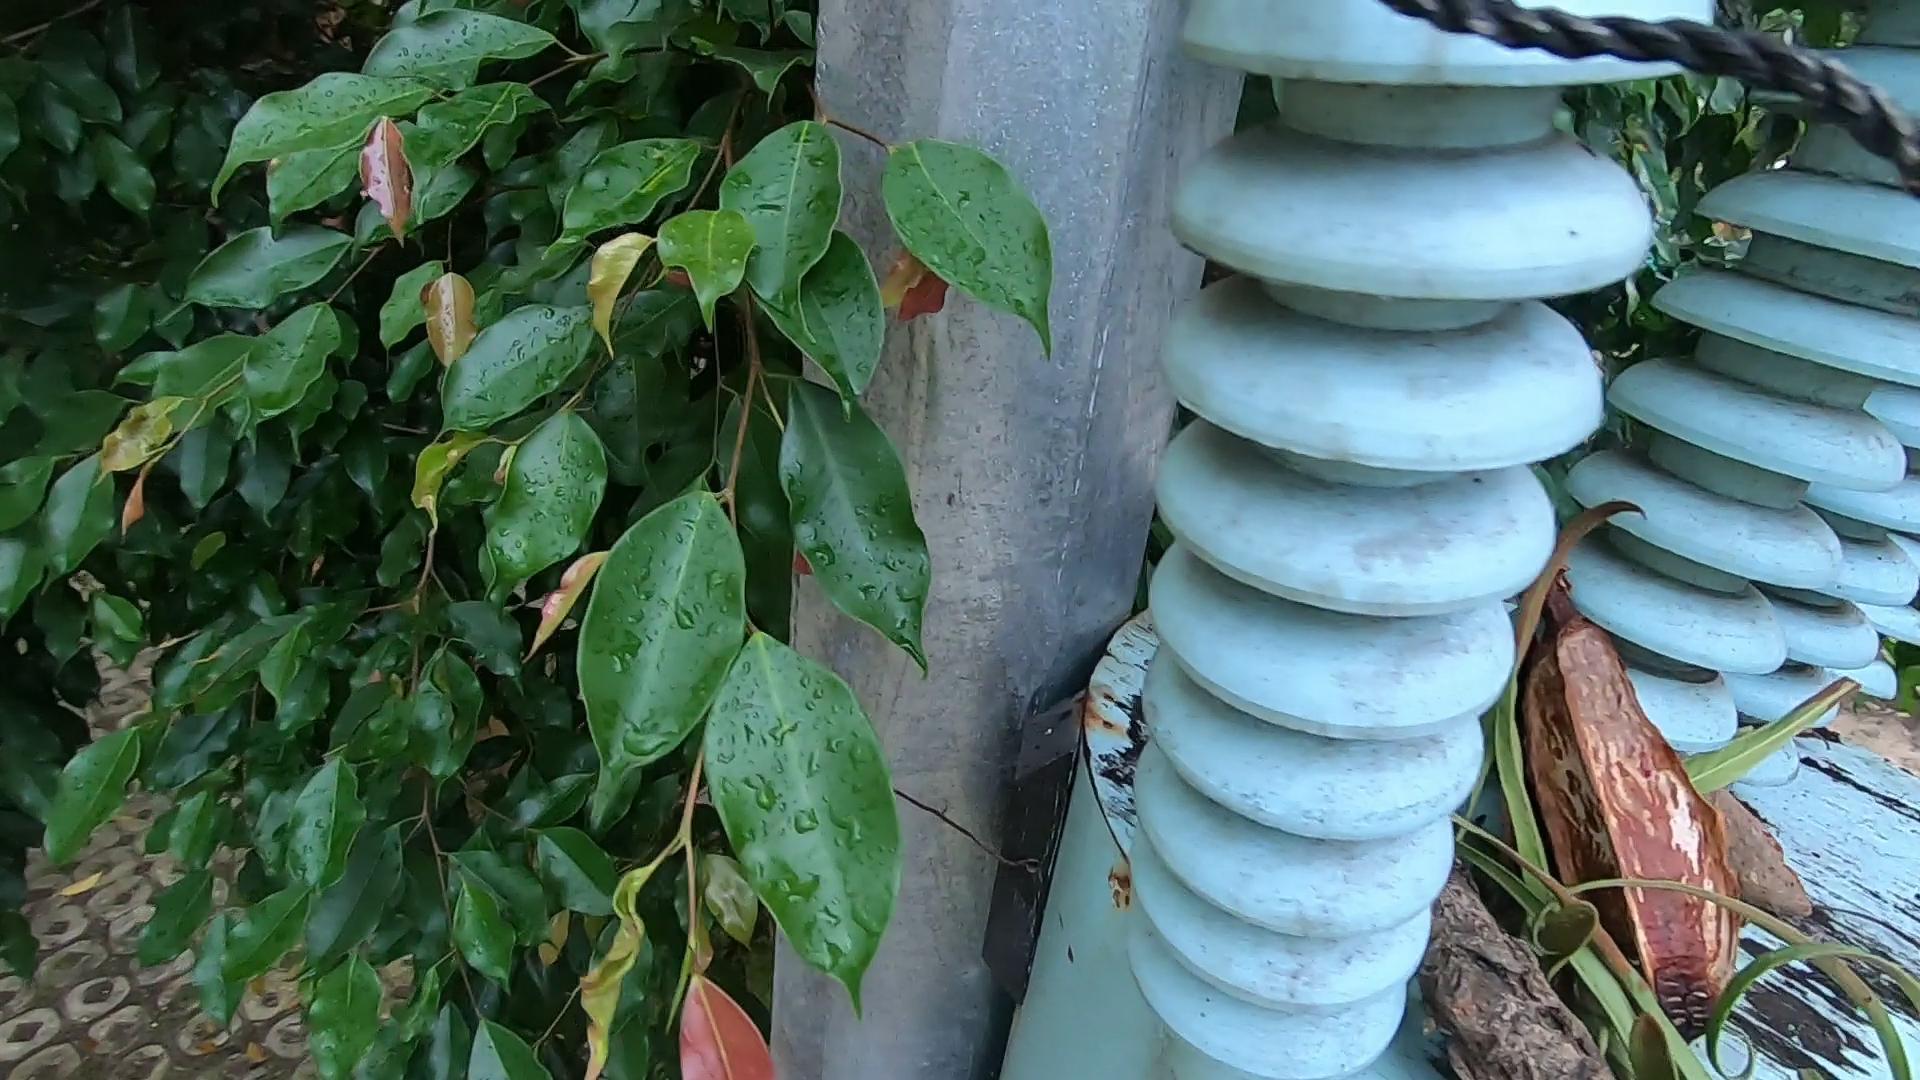branch with leaves: (1418, 849, 1795, 1080)
mahogany fruit: (1531, 638, 1727, 973), (1665, 713, 1866, 945)
